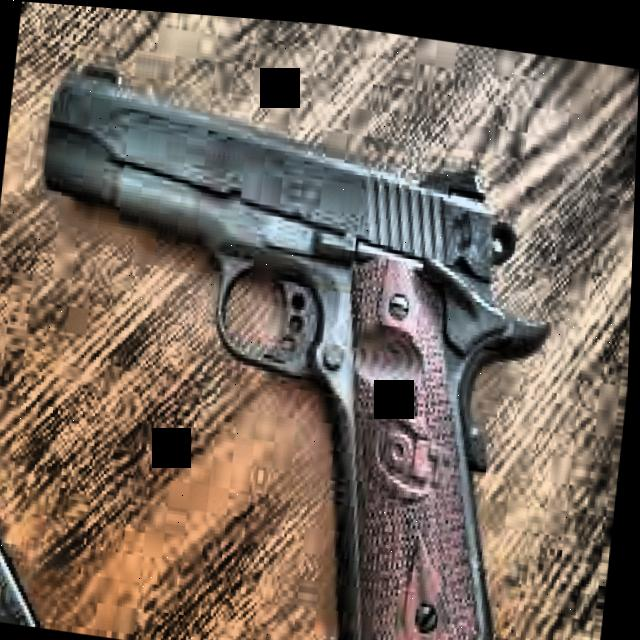Colt m1911: (0, 50, 572, 640)
